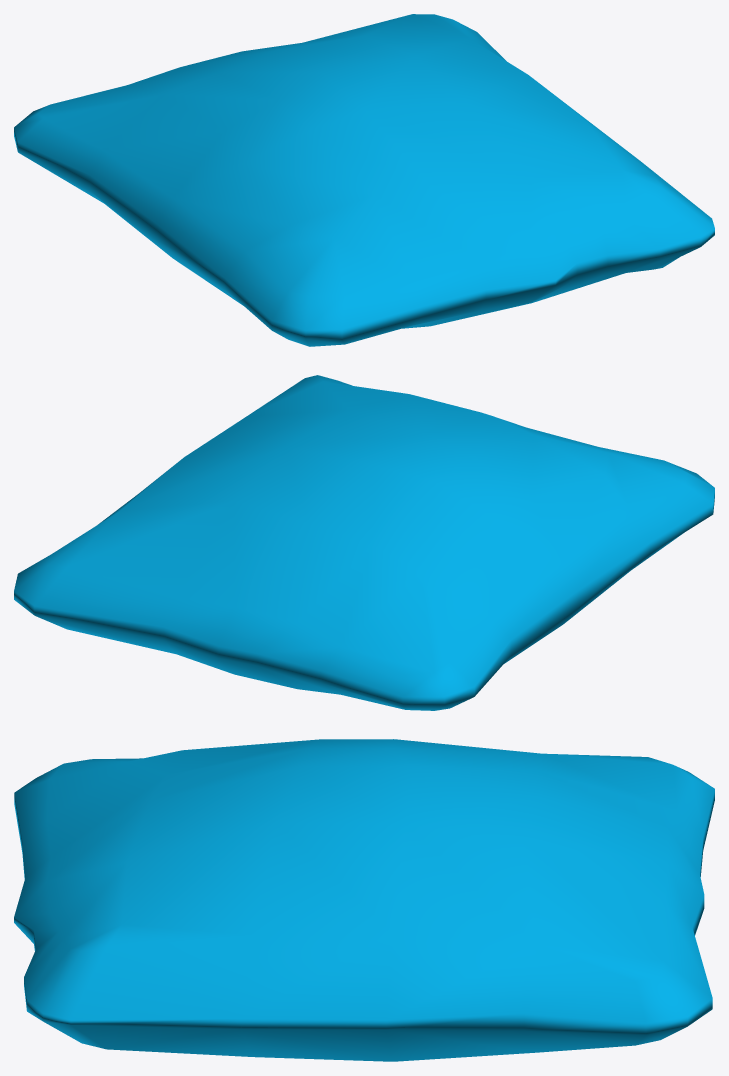
File: Pillow_02_Lod0.fbx
3 renders of one model, top to bottom at view 1: azimuth 30°, elevation 25°; view 2: azimuth 150°, elevation 25°; view 3: azimuth 270°, elevation 25°, orthographic. The views are drawn at different scales.
Parts seen in each view (by area): view 1: Pillow_02_Lod0; view 2: Pillow_02_Lod0; view 3: Pillow_02_Lod0.
Boxes of the visible parts, x1,y1,x2,y2 form: Pillow_02_Lod0: (14, 14, 714, 346); Pillow_02_Lod0: (14, 375, 714, 710); Pillow_02_Lod0: (14, 739, 714, 1061).
Size of the model in its own units: 50.04 by 21.08 by 57.11.
